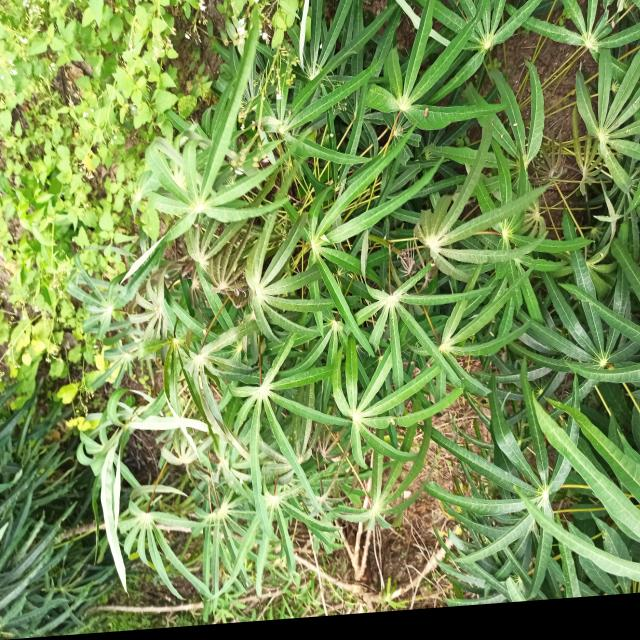Maleza: (0, 79, 129, 263), (0, 0, 181, 129), (0, 196, 78, 394)
Mosca: (420, 102, 433, 119), (495, 129, 508, 143), (196, 375, 206, 389), (327, 130, 337, 143), (509, 122, 521, 129), (317, 39, 323, 47)
